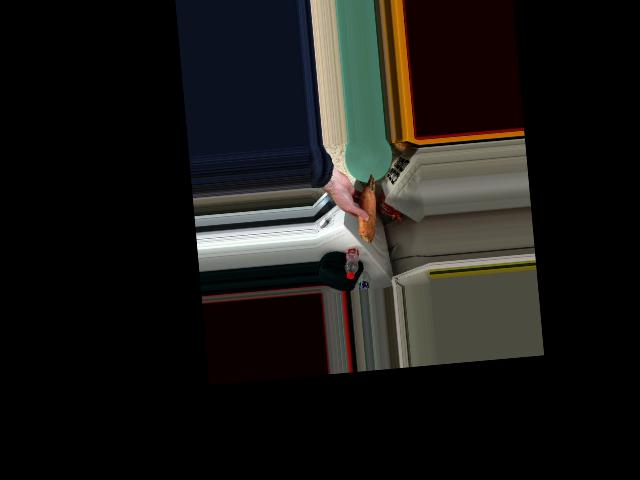sweet_potato: (354, 172, 379, 239)
